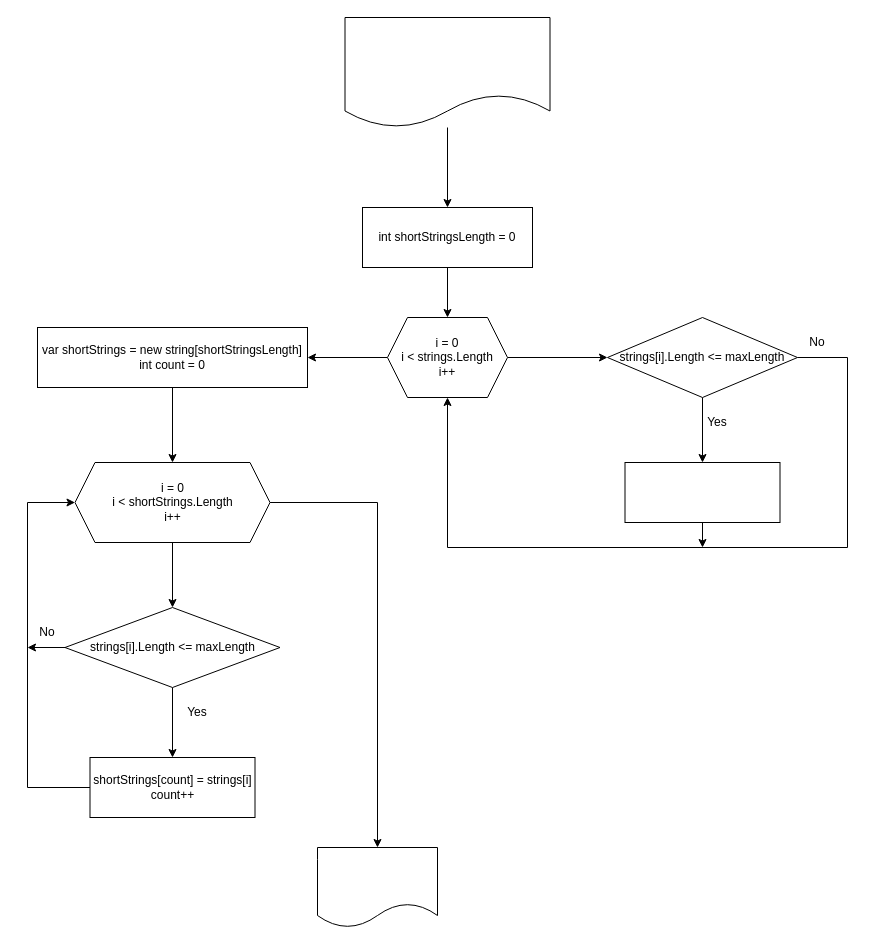
Image size: 873x945. Some labels were removed from this diagram. Each missing label, with the box of its shape:
shortStringsLength ++: (624, 462, 780, 522)
Вывод: shortStrings: (316, 846, 438, 928)
Метод GetStringsByMaxLength Аргументы: string[] strings int maxLength = 3: (344, 16, 550, 128)
